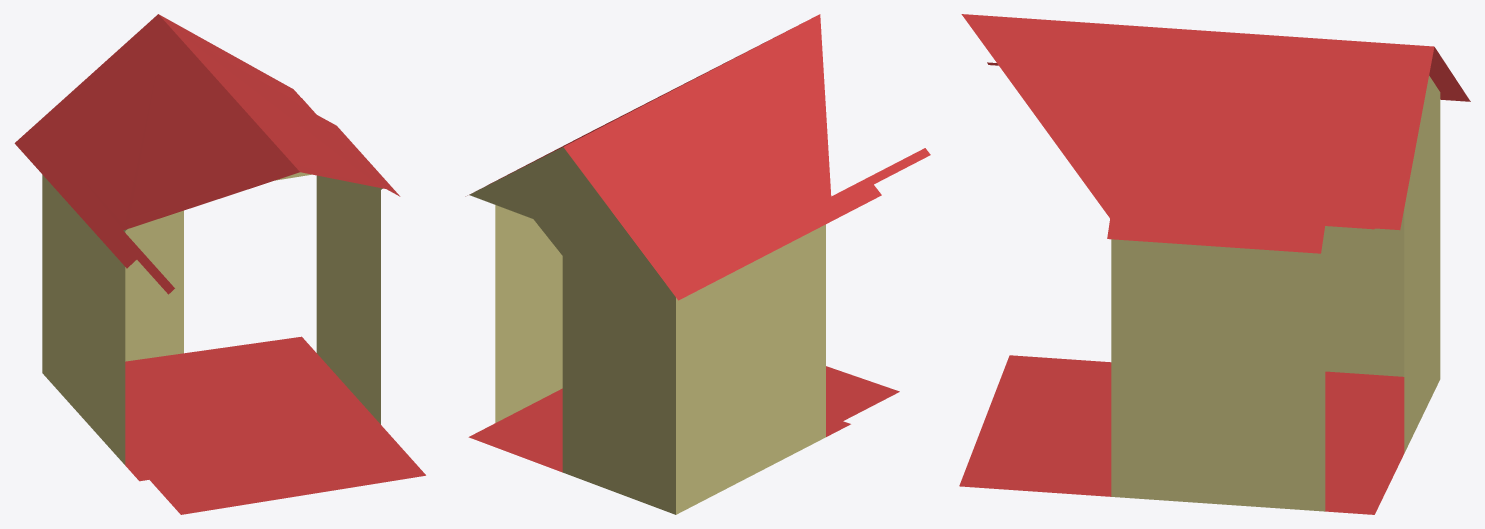
The picture shows the model from 3 angles, left to right: view 1: azimuth 30°, elevation 25°; view 2: azimuth 150°, elevation 25°; view 3: azimuth 270°, elevation 25°; orthographic projection. The views are drawn at different scales.
Bounding box in the file's own units: 12.39 × 14.93 × 12.85.
